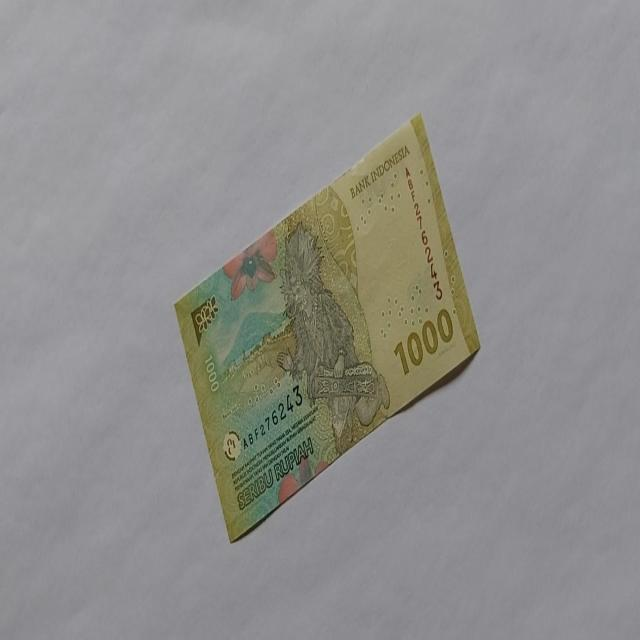seribu rupiah kertas: (173, 111, 481, 543)
